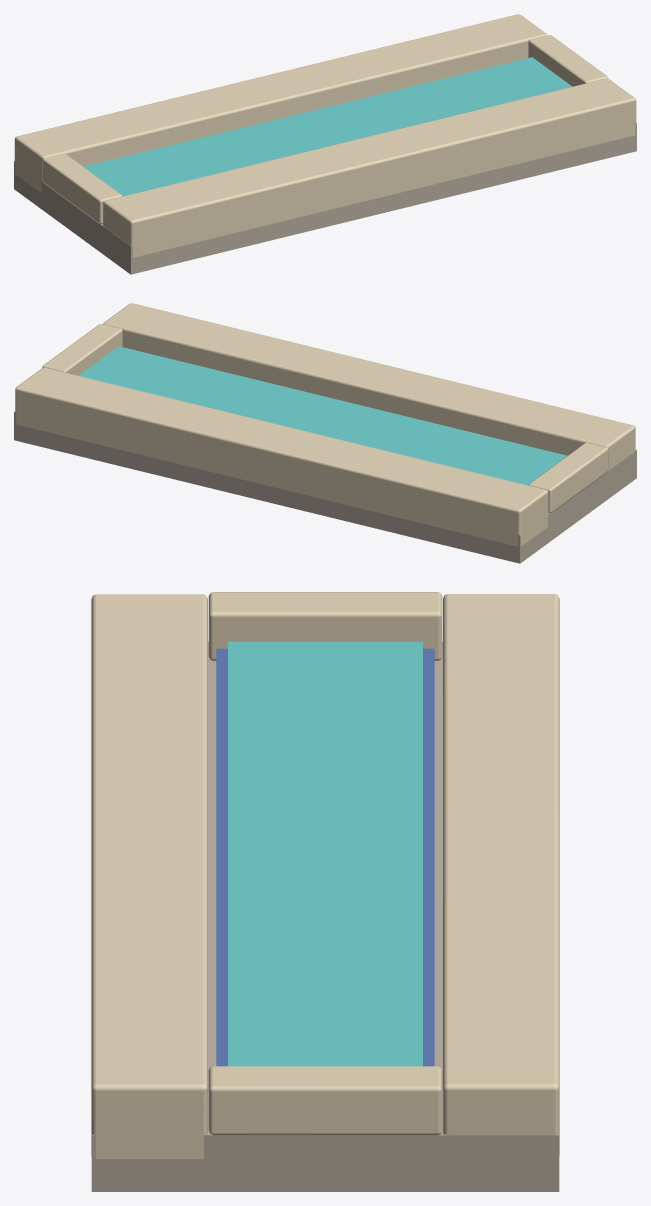
Rendered from water-channel-runn-2ea19fd7.glb.
The picture shows the model from 3 angles, top to bottom: view 1: azimuth 30°, elevation 25°; view 2: azimuth 150°, elevation 25°; view 3: azimuth 270°, elevation 25°; orthographic projection. The views are drawn at different scales.
Visible parts, largest first — view 1: water-channel-runnel; view 2: water-channel-runnel; view 3: water-channel-runnel.
Part boxes in pixels (box(x1,y1,x2,y2)): water-channel-runnel: box(14, 14, 636, 274); water-channel-runnel: box(14, 303, 636, 563); water-channel-runnel: box(91, 592, 559, 1191).
Bounding box in the file's own units: 3.02 × 0.3001 × 1.2.
